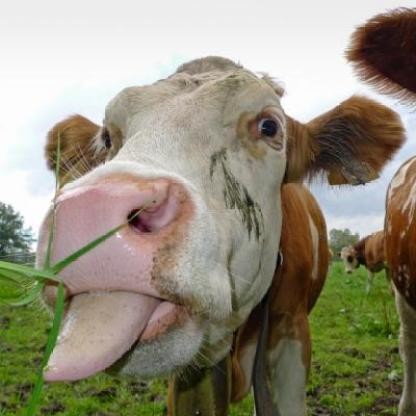lower: (132, 355, 164, 370)
mouth: (42, 180, 210, 378)
upper: (75, 214, 106, 245)
